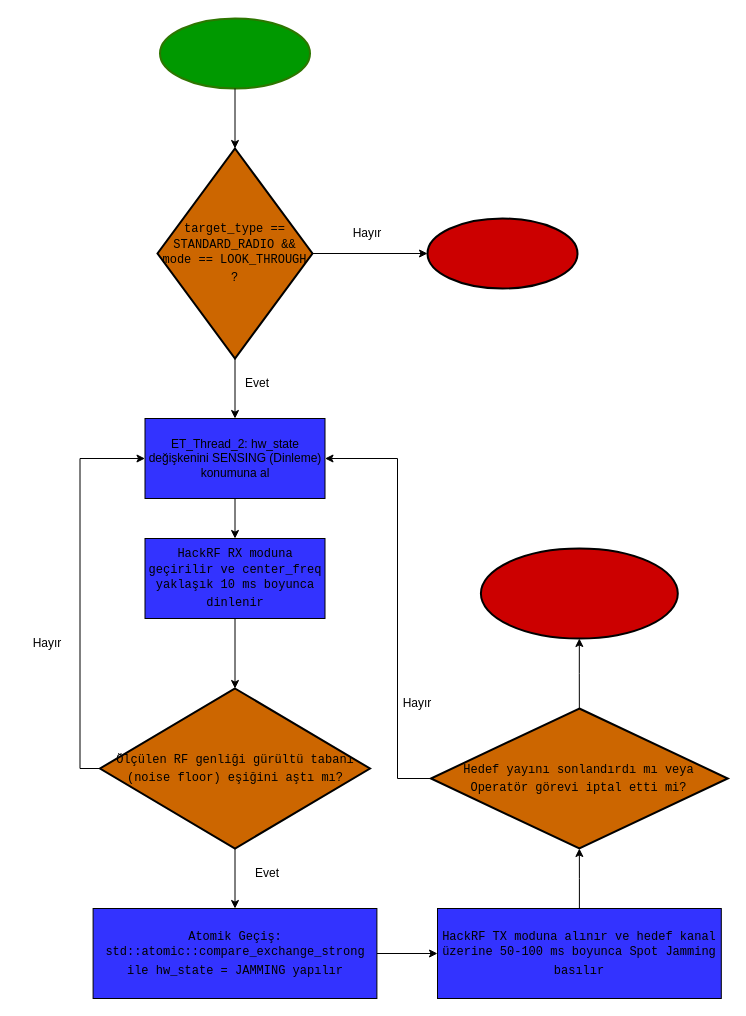
Image size: 746x1016. Some labels were removed from this diagram. Here are the shapes that lost their labels. From the top down, the box of each, then its label:
(158, 17, 310, 89): Başlat: İstihbarat Verisi Alındı
(426, 217, 578, 289): Süreci Sonlandır
(479, 547, 678, 639): Sistem hw_state = IDLE konumuna döner ve işlem sonlandırılır
